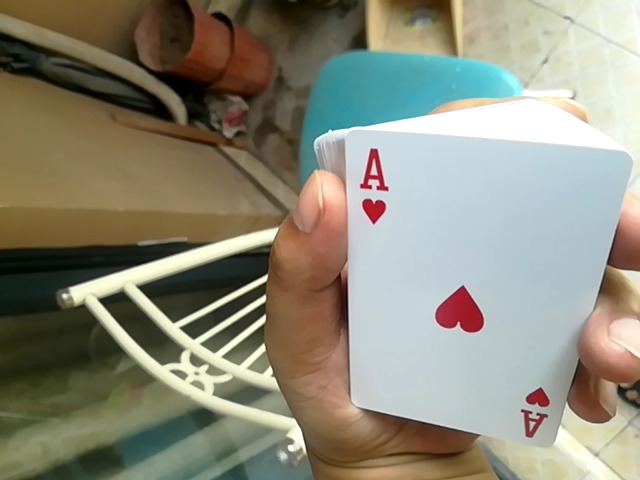hx a: (329, 135, 626, 463)
